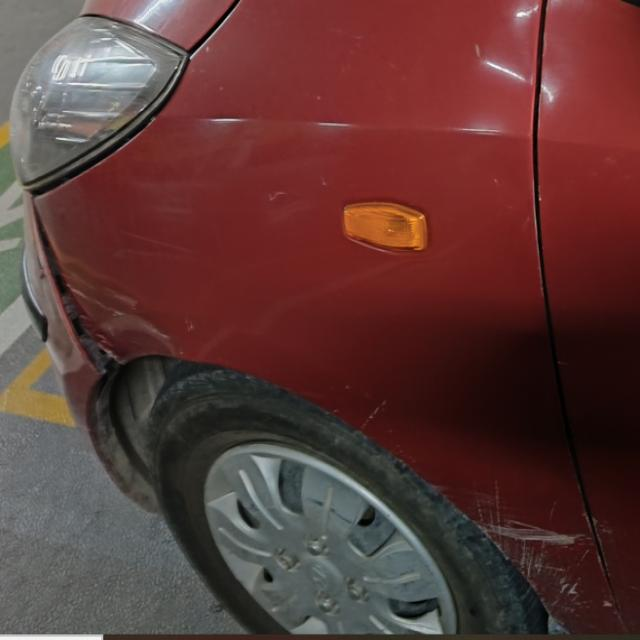scratch: (467, 478, 640, 631), (48, 255, 183, 358), (340, 396, 404, 431), (258, 186, 300, 222)
